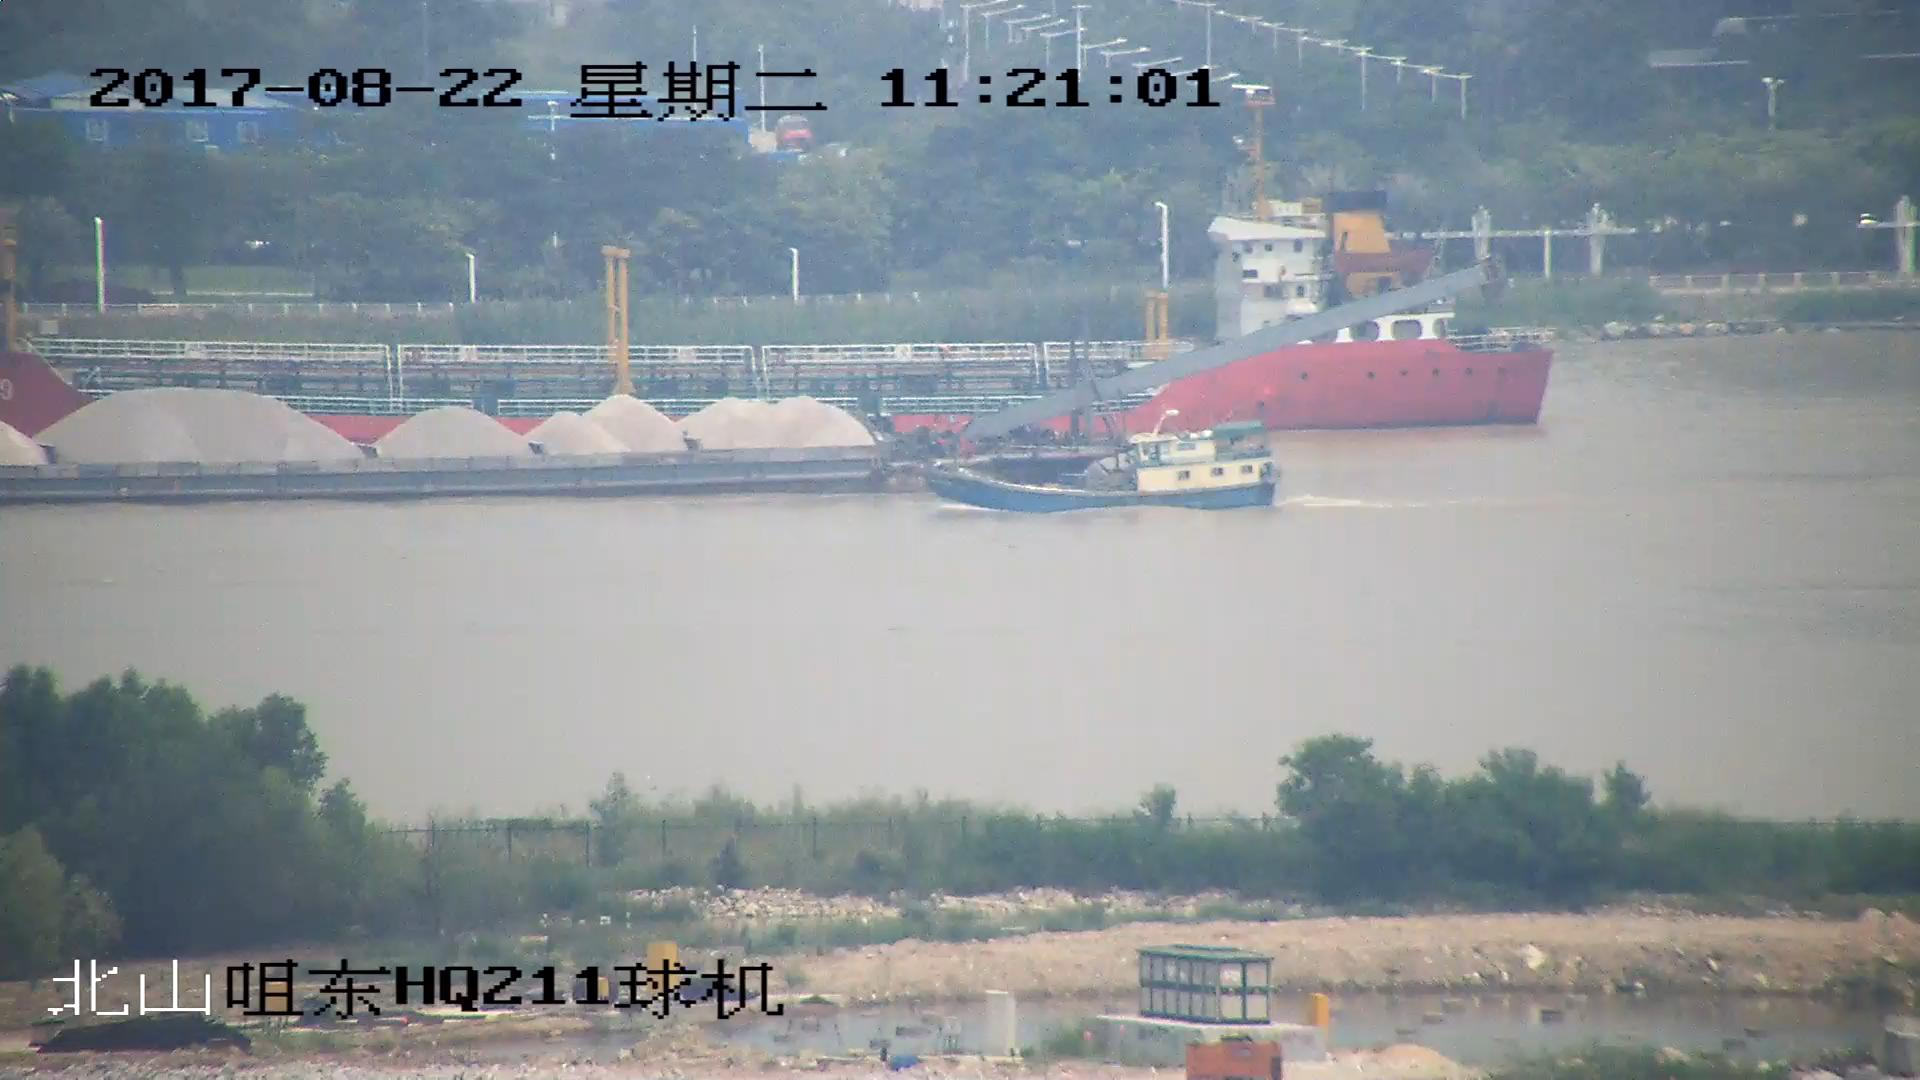fishing boat: (923, 412, 1280, 514)
general cargo ship: (1, 110, 1553, 437)
ore carrier: (1, 259, 1499, 507)
